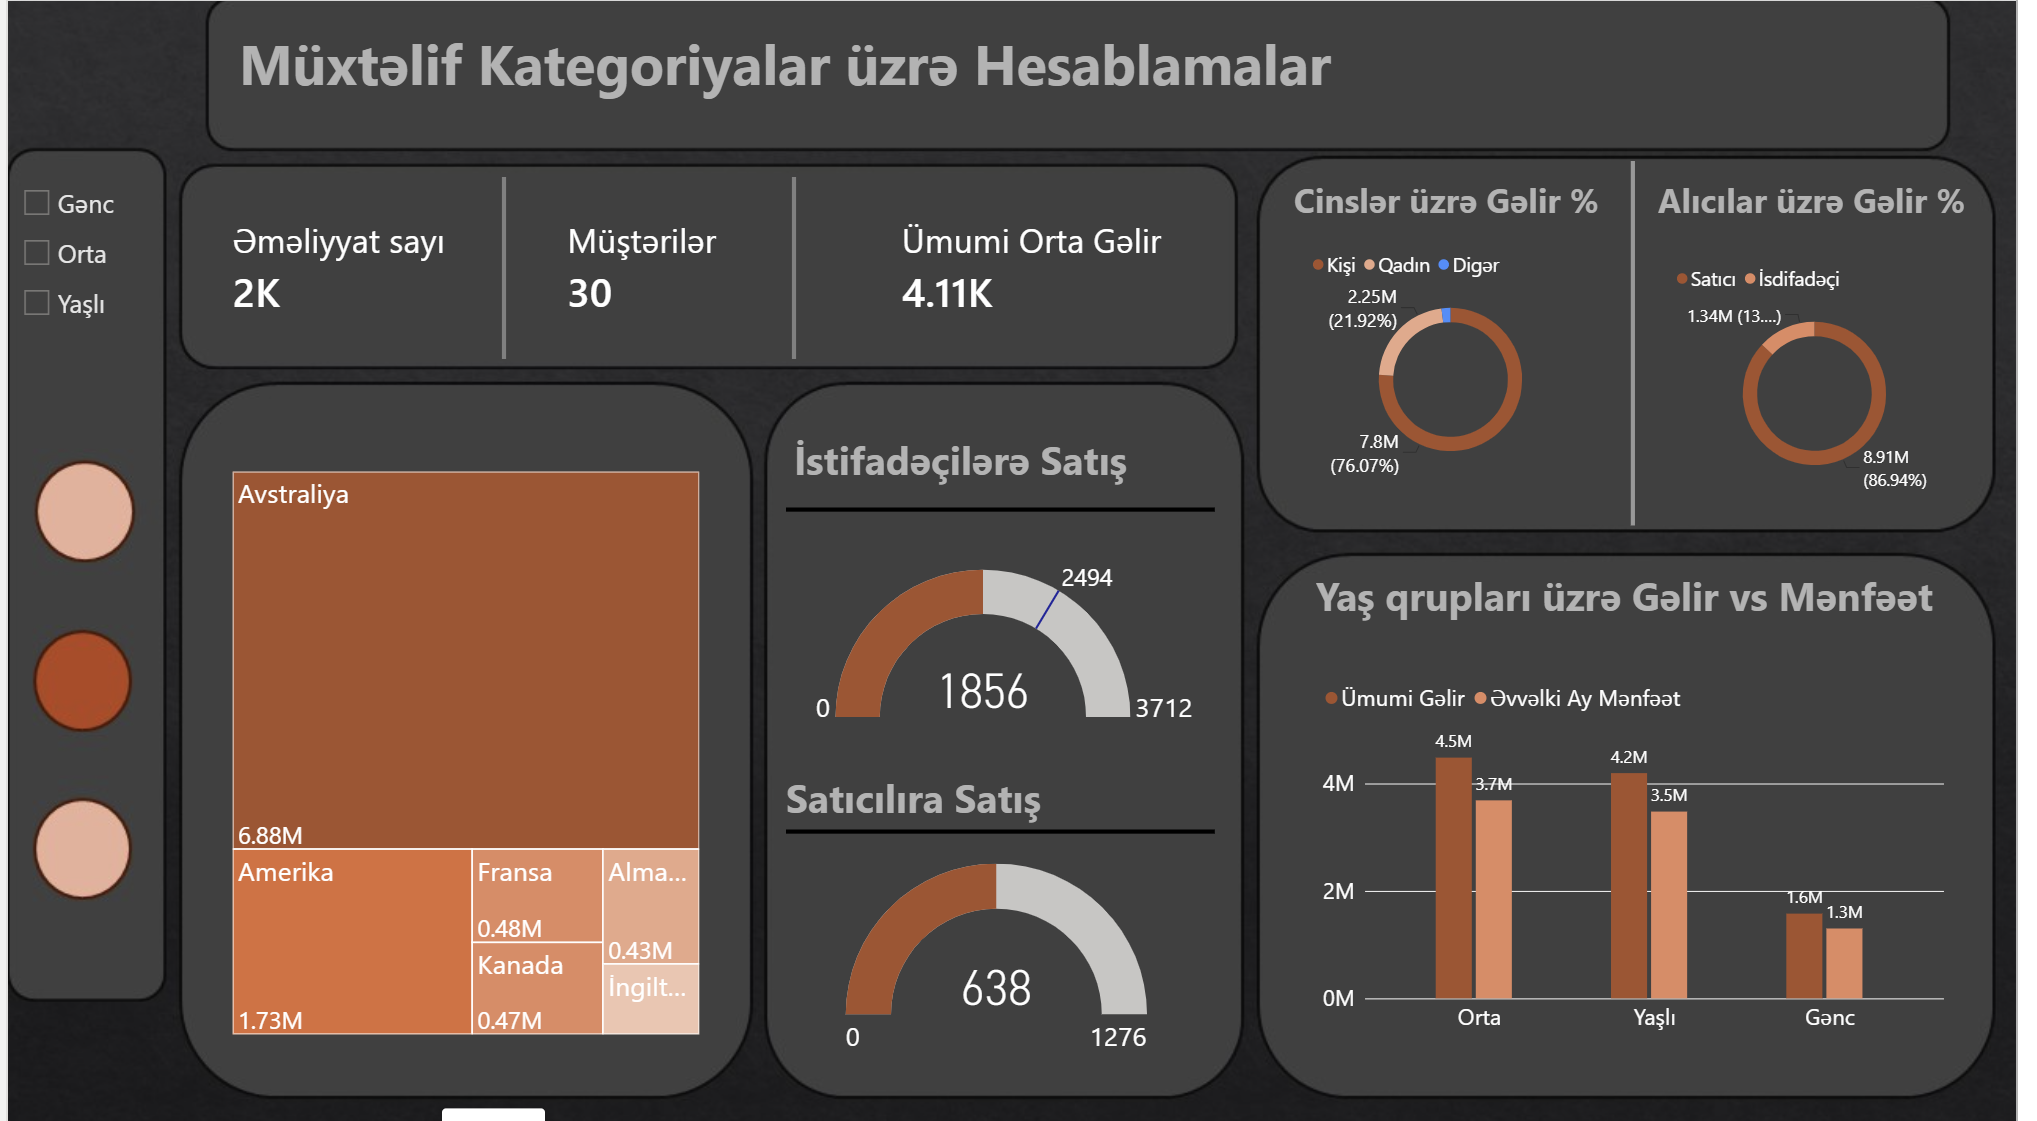

The page's visual inventory and layout, read from the dashboard file:
{"tool":"powerbi","page":{"name":"Page 2","canvas":[1920,1080],"ordinal":1},"visuals":[{"type":"textbox","box":[198.9,22.9,1088.1,91.8],"z":0},{"type":"actionButton","box":[15.3,436,112.8,103.3],"z":1000},{"type":"actionButton","box":[15.3,759.2,112.8,103.3],"z":2000},{"type":"actionButton","box":[15.3,594.7,112.8,103.3],"z":3000},{"type":"cardVisual","fields":{"Data":["Measures (2).Əməliyyat sayı","Measures (2).Müştərilər","Measures (2).Ümumi Orta Gəlir"]},"box":[198.9,168.3,954.3,174],"z":4000},{"type":"shape","box":[399.7,168.3,149.2,174],"z":5000},{"type":"shape","box":[677,168.3,149.2,174],"z":6000},{"type":"treemap","fields":{"Group":["Musteriler.Country"],"Values":["Olculer.Ümumi Gəlir"]},"box":[198.9,436,478.1,568],"z":7000},{"type":"textbox","box":[751,412.1,321,57.5],"z":8000},{"type":"shape","box":[743,469.6,410.2,31.7],"z":9000},{"type":"gauge","fields":{"TargetValue":["Olculer.Əməliyyat sayı"],"Y":["Olculer.İsdifadəçi Əməliyyat sayı"]},"box":[751,501.3,402.2,218],"z":10000},{"type":"shape","box":[743,778.7,410.2,31.7],"z":11000},{"type":"textbox","box":[743,737.1,321,57.5],"z":12000},{"type":"gauge","fields":{"TargetValue":["Olculer.Əməliyyat sayı"],"Y":["Olculer.Satıcı Əməliyyat sayı"]},"box":[743,810.4,402.2,218],"z":13000},{"type":"shape","box":[1529.7,152.6,47.6,348.7],"z":14000},{"type":"textbox","box":[1230.5,168.4,299.2,51.5],"z":15000},{"type":"textbox","box":[1577.2,168.4,299.2,51.5],"z":16000},{"type":"donutChart","fields":{"Category":["Musteriler.Cins"],"Y":["Olculer.Ümumi Gəlir"]},"box":[1230.5,219.9,299.2,251.6],"z":17000},{"type":"donutChart","fields":{"Category":["Satislar.Alıcı Tipi"],"Y":["Olculer.Ümumi Gəlir"]},"box":[1577.2,233.8,299.2,251.6],"z":18000},{"type":"textbox","box":[1250.3,542.9,604.3,67.4],"z":19000},{"type":"clusteredColumnChart","fields":{"Category":["Musteriler.Yaş (groups)"],"Y":["Olculer.Ümumi Gəlir","Olculer.Evvelki ay menfeet"]},"box":[1240.4,632.1,626.1,374.5],"z":20000},{"type":"slicer","fields":{"Values":["Musteriler.Yaş (groups)"]},"box":[7.9,168.4,128.8,192.2],"z":21000}]}

Visuals, with their boxes in screenshot pixels (x1, y1, x2, y2), scaled from the page's 1920x1080 canvas onto the 2037x1121 screenshot:
textbox: region(211, 24, 1365, 119)
actionButton: region(16, 453, 136, 560)
actionButton: region(16, 788, 136, 895)
actionButton: region(16, 617, 136, 724)
cardVisual - Measures (2).Əməliyyat sayı x Measures (2).Müştərilər: region(211, 175, 1223, 355)
shape: region(424, 175, 582, 355)
shape: region(718, 175, 877, 355)
treemap - Musteriler.Country x Olculer.Ümumi Gəlir: region(211, 453, 718, 1042)
textbox: region(797, 428, 1137, 487)
shape: region(788, 487, 1223, 520)
gauge - Olculer.Əməliyyat sayı x Olculer.İsdifadəçi Əməliyyat sayı: region(797, 520, 1223, 747)
shape: region(788, 808, 1223, 841)
textbox: region(788, 765, 1129, 825)
gauge - Olculer.Əməliyyat sayı x Olculer.Satıcı Əməliyyat sayı: region(788, 841, 1215, 1067)
shape: region(1623, 158, 1673, 520)
textbox: region(1305, 175, 1623, 228)
textbox: region(1673, 175, 1991, 228)
donutChart - Musteriler.Cins x Olculer.Ümumi Gəlir: region(1305, 228, 1623, 489)
donutChart - Satislar.Alıcı Tipi x Olculer.Ümumi Gəlir: region(1673, 243, 1991, 504)
textbox: region(1326, 564, 1968, 633)
clusteredColumnChart - Musteriler.Yaş (groups) x Olculer.Ümumi Gəlir: region(1316, 656, 1980, 1045)
slicer - Musteriler.Yaş (groups): region(8, 175, 145, 374)
